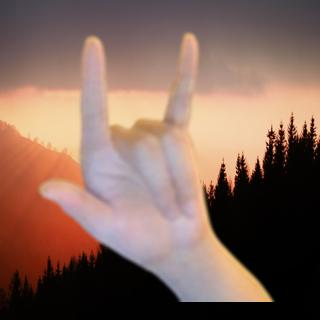ILY: (31, 26, 222, 271)
